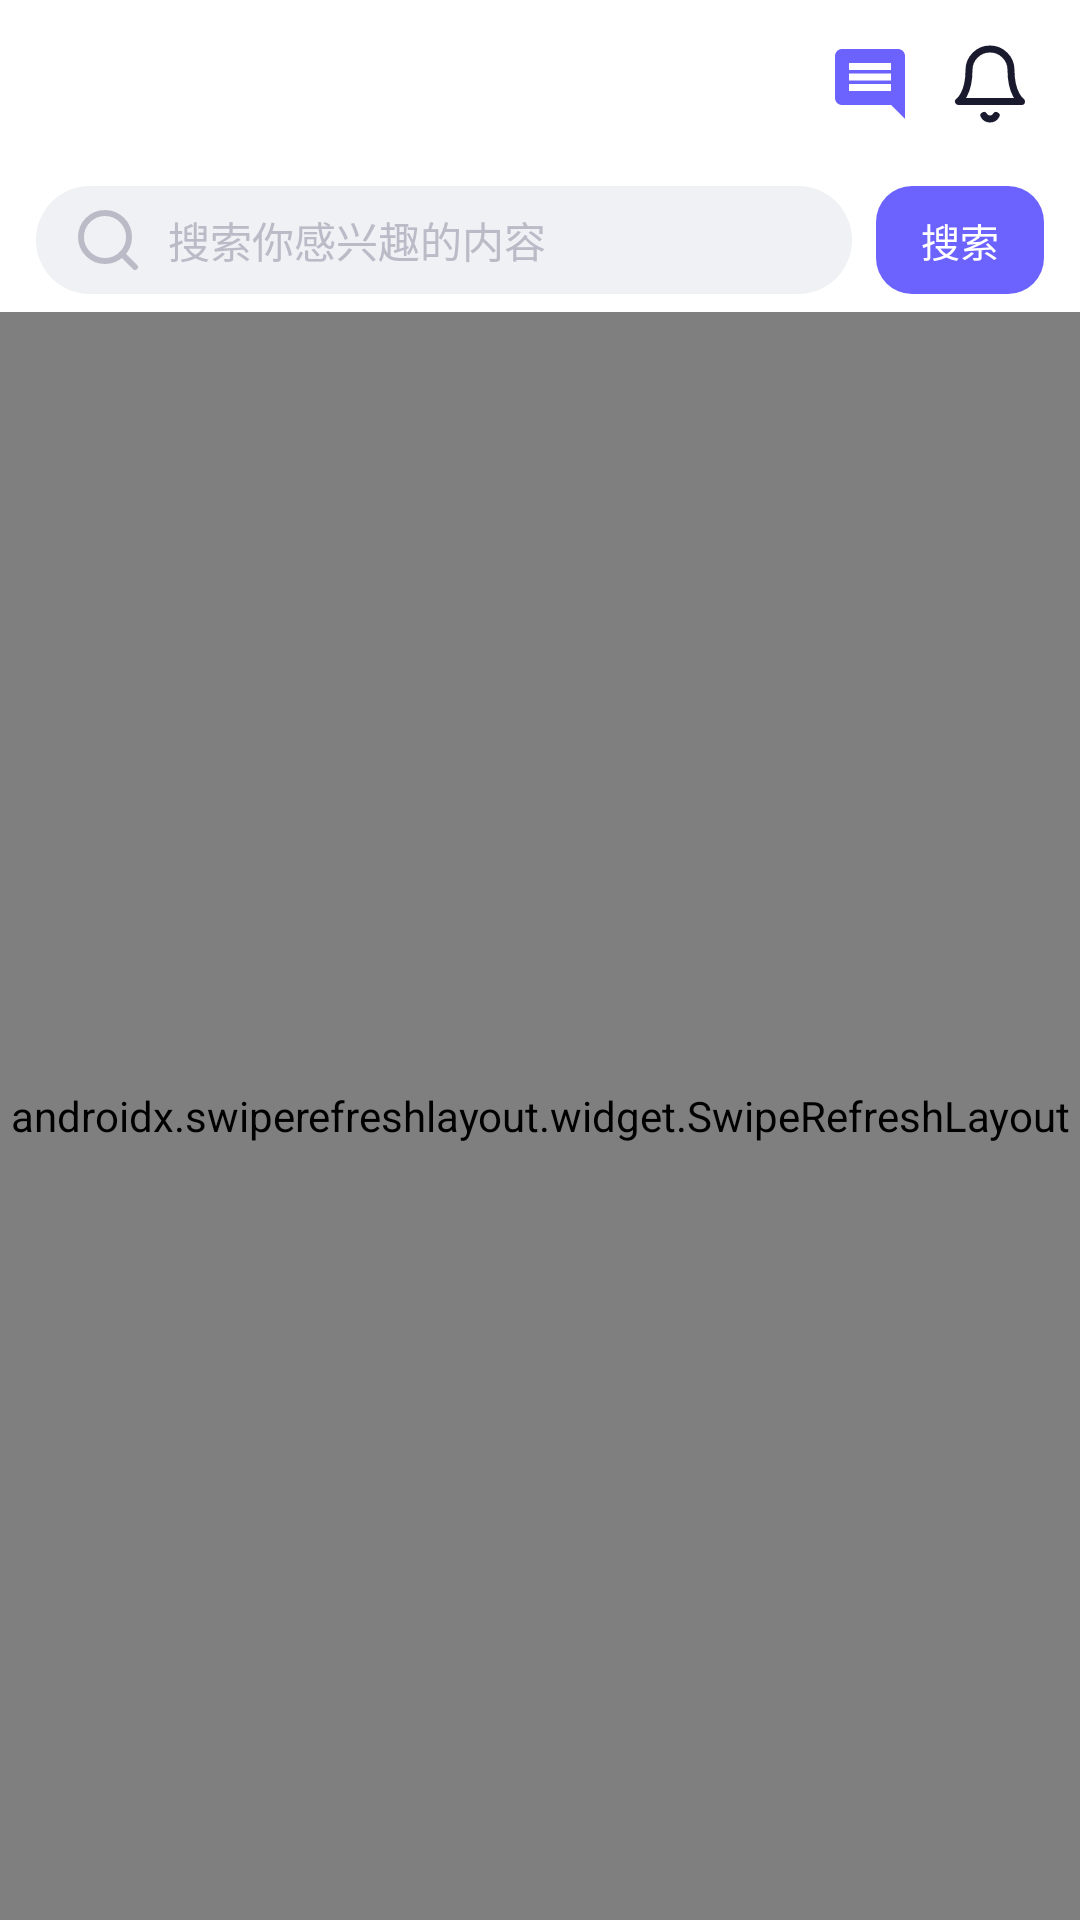

Named icons in this screenshot (1080×1920) and their bounding boxes, (x1, y1, x2, y2):
bell: (955, 45, 1025, 123)
